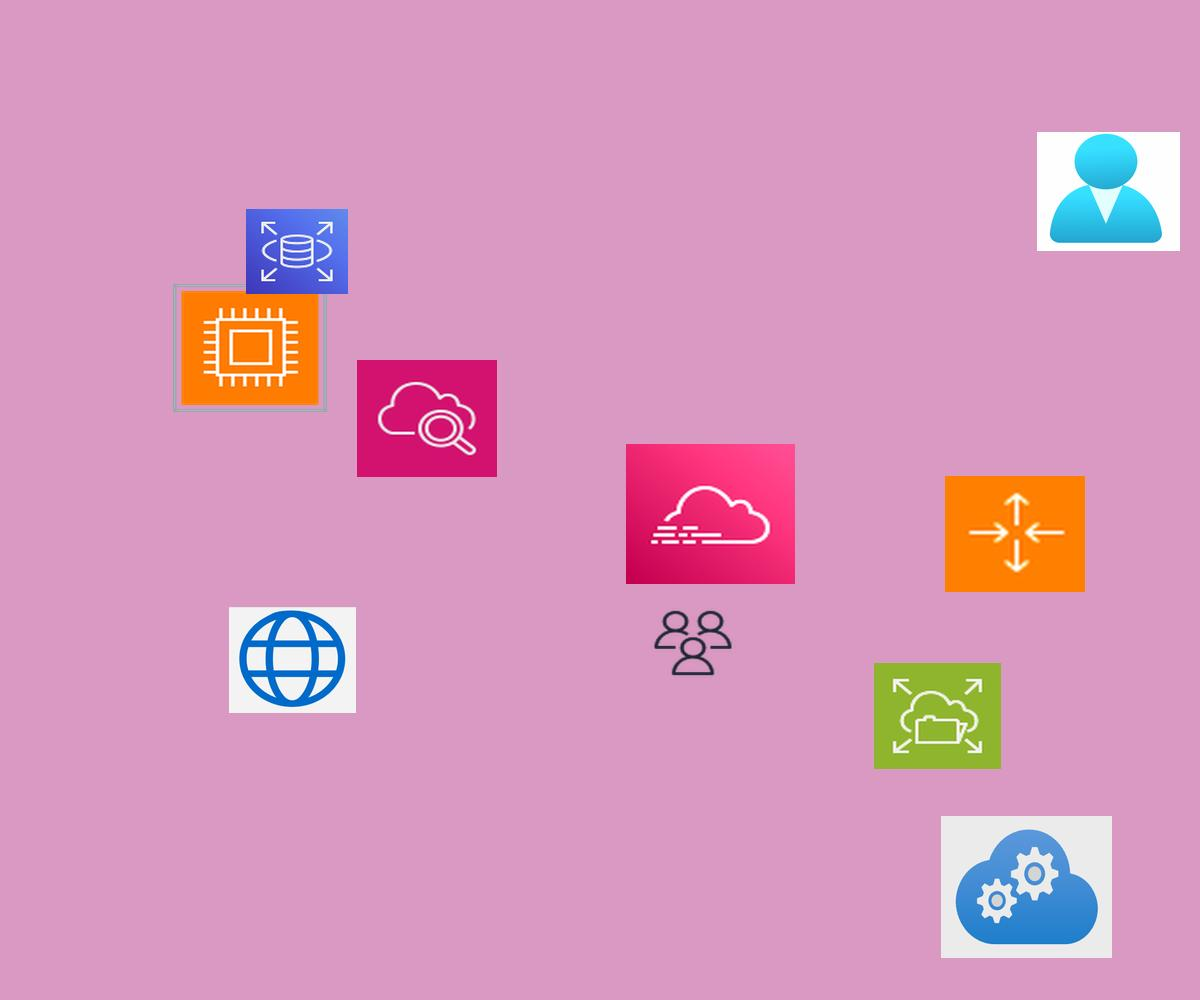AWS-Category_Compute: (173, 284, 327, 412)
AWS-CloudTrail: (626, 444, 795, 584)
AWS-CloudWatch: (357, 360, 497, 477)
AWS-EFS: (874, 663, 1001, 769)
AWS-RDS: (246, 209, 348, 294)
AWS-Res_Users: (651, 608, 735, 678)
AWS-Scaling-group: (945, 476, 1085, 592)
Azure_cloud_services: (941, 816, 1112, 958)
Azure_http: (229, 607, 356, 713)
Azure_users: (1037, 132, 1180, 251)
